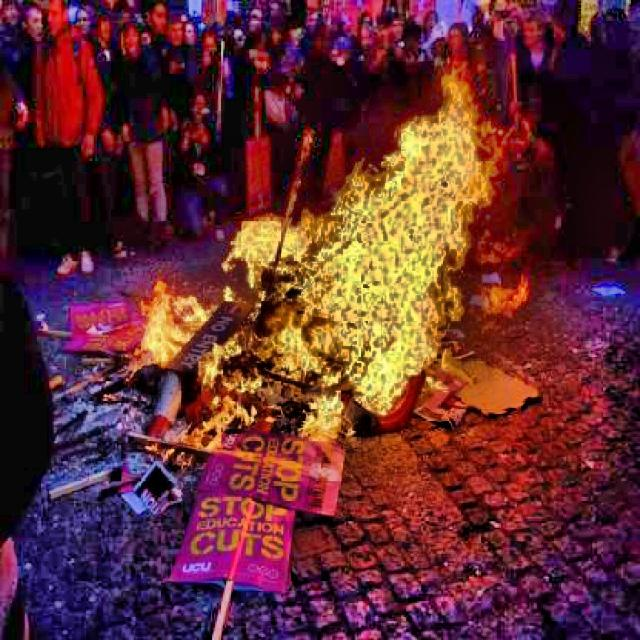Fire: (136, 66, 528, 454)
